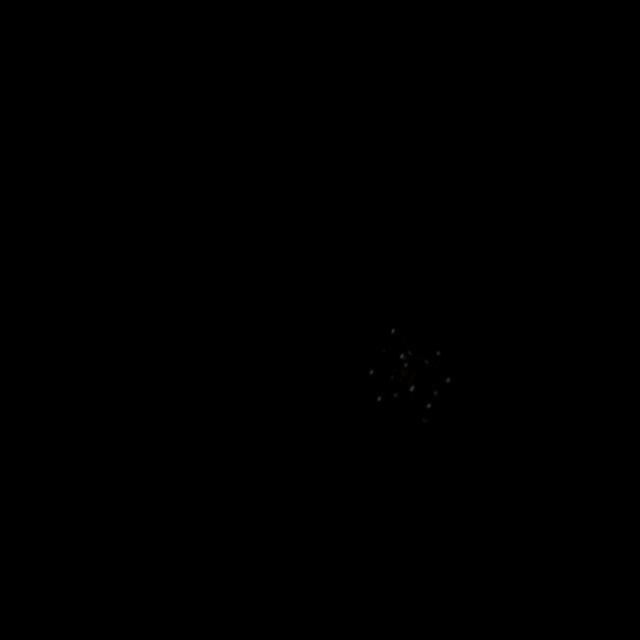medium_debris: (342, 313, 461, 435)
